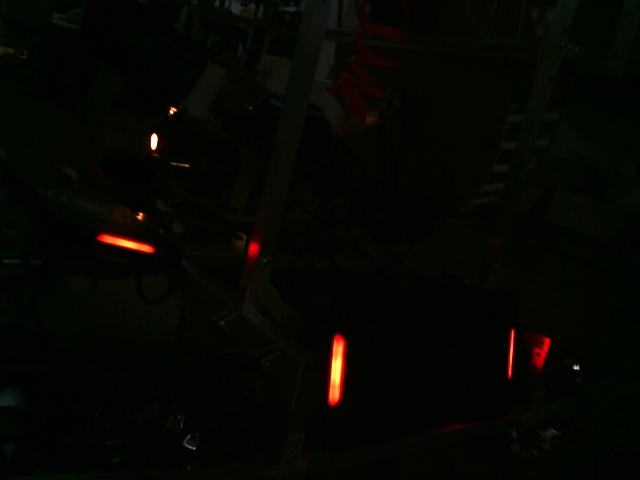lamp: (327, 332, 345, 406), (507, 326, 516, 379)
